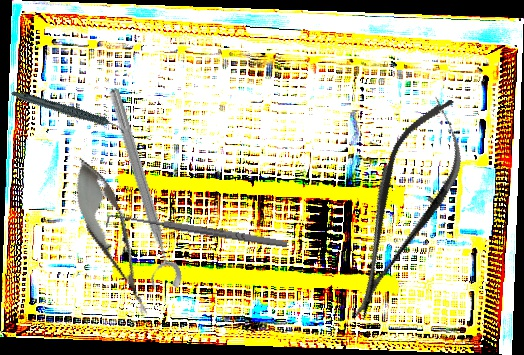Fixation Ring: (92, 85, 185, 296)
Handpiece: (10, 69, 127, 155)
Hook Surgical: (105, 209, 289, 257)
Micro Scissor: (323, 86, 485, 331), (60, 149, 165, 325)
